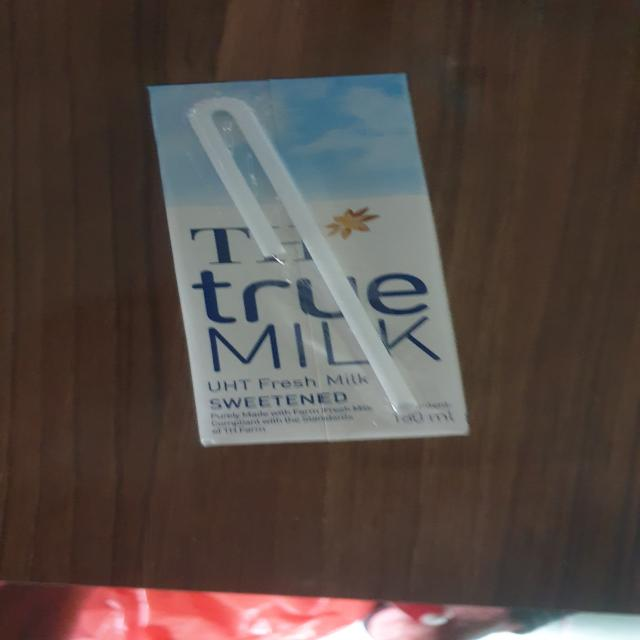TH: (149, 76, 472, 446)
